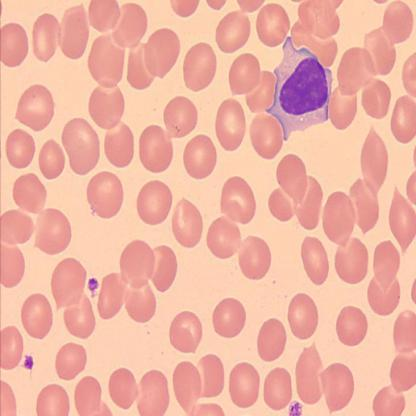Atypical lymphocyte: (268, 34, 334, 138)
